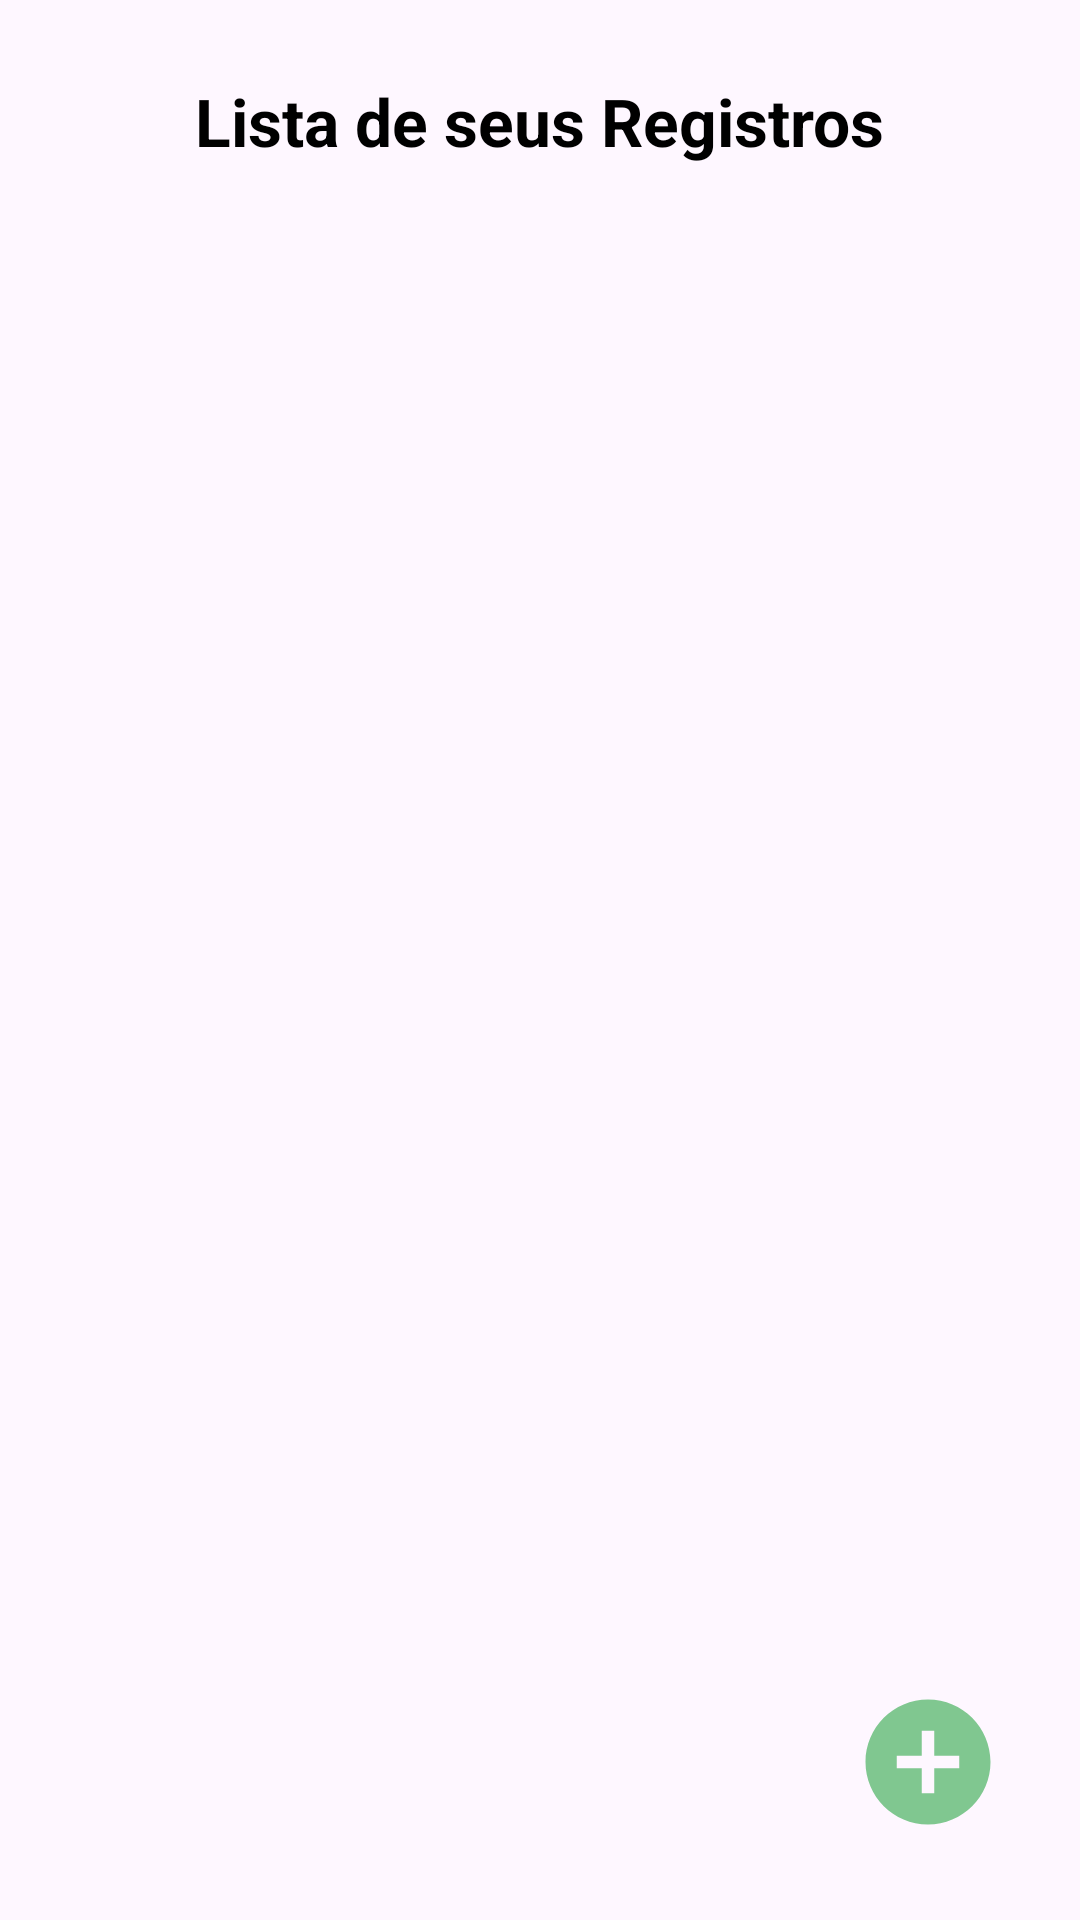

Where icons sit on this 1080*1920 app screen, as box=[x1, y1, x2, y2]:
add circle: box=[865, 1699, 991, 1825]
